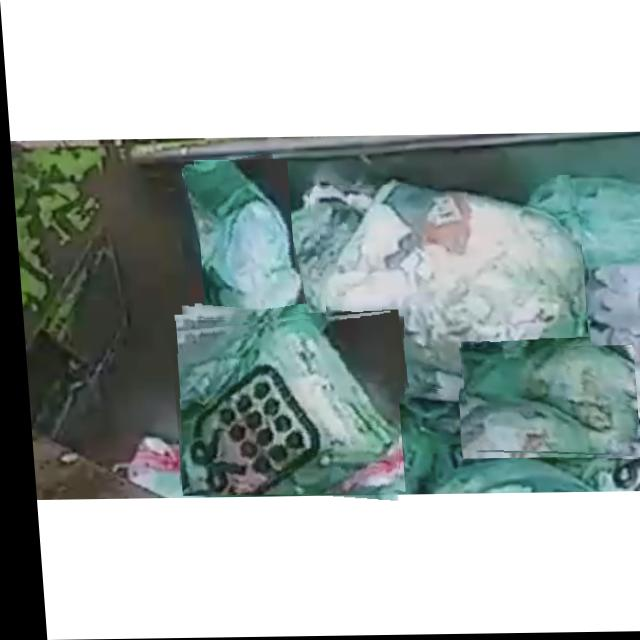general_trashbag: (318, 186, 581, 391), (173, 320, 390, 495), (457, 348, 630, 457), (183, 162, 298, 320)
